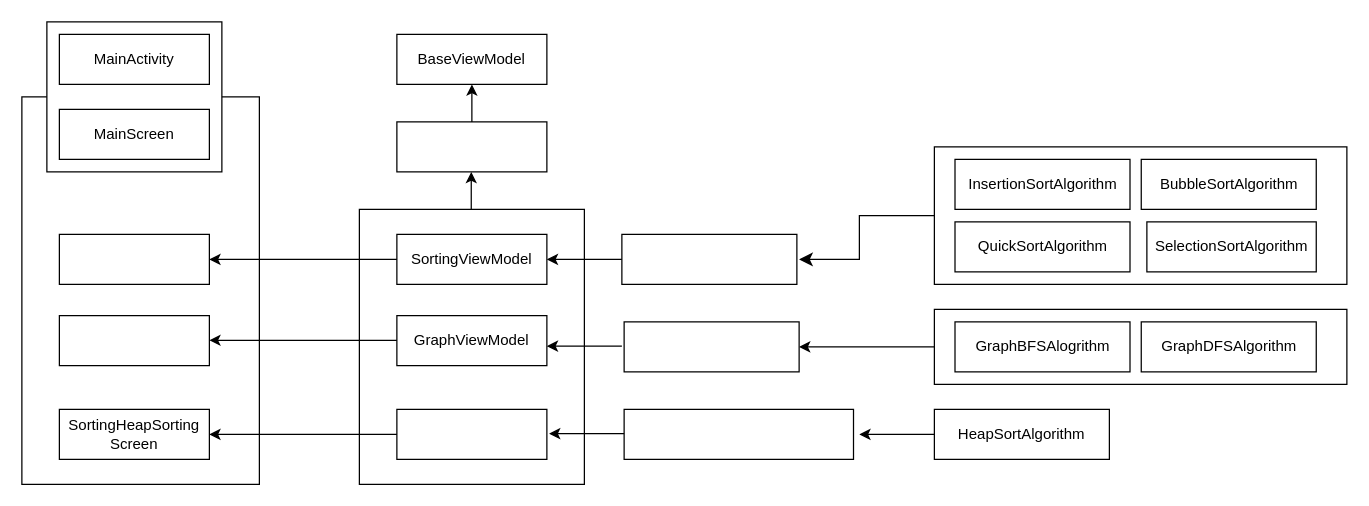
The diagram is 1369 pixels wide and 506 high, and some of its shapes have lost their labels. Here are the shapes that lost their labels. From the top down, the centre of each, then its label:
the point at 471,146: AlgorithmViewModel
the point at 133,258: SortingScreen
the point at 709,258: ISortingAlogrithm
the point at 133,340: GraphScreen
the point at 711,346: IGraphAlgorithm
the point at 471,433: SortingHeapSorting ViewModel
the point at 738,433: ISortingHeapSorting Algorithm
